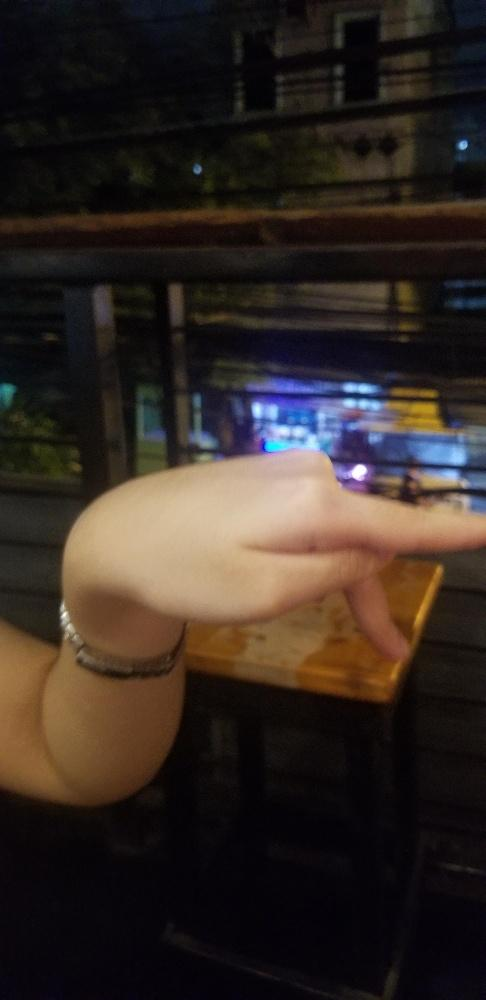p: (65, 447, 485, 664)
